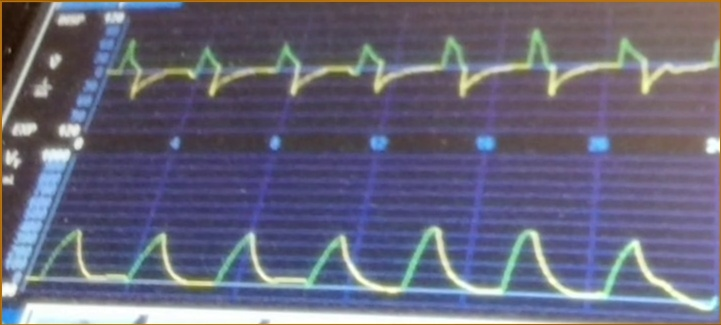Premature_cycling Flow: (112, 24, 718, 130)
Premature_cycling Volume: (35, 216, 711, 305)
